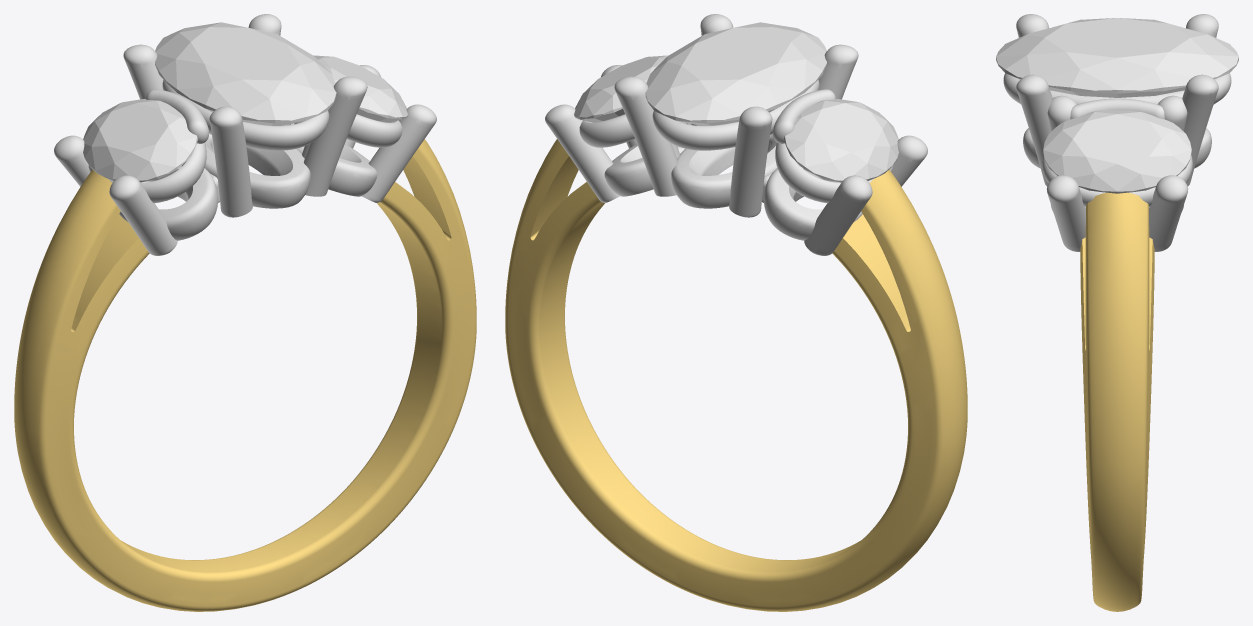
Rendered from JenniePThead_blender.glb.
3 renders of one model, left to right at view 1: azimuth 30°, elevation 25°; view 2: azimuth 150°, elevation 25°; view 3: azimuth 270°, elevation 25°, orthographic.
Parts seen in each view (by area): view 1: Jennie YG band for 3d model, Jennie PT head for 3d model, Jennie dia for 3d model.002, Jennie dia for 3d model.001, Jennie dia for 3d model; view 2: Jennie YG band for 3d model, Jennie PT head for 3d model, Jennie dia for 3d model.002, Jennie dia for 3d model.001, Jennie dia for 3d model; view 3: Jennie YG band for 3d model, Jennie dia for 3d model.002, Jennie PT head for 3d model, Jennie dia for 3d model.
Part boxes in pixels (x1=…): Jennie YG band for 3d model: x1=14, y1=139, x2=476, y2=611; Jennie PT head for 3d model: x1=54, y1=14, x2=436, y2=255; Jennie dia for 3d model.002: x1=155, y1=22, x2=336, y2=125; Jennie dia for 3d model.001: x1=83, y1=99, x2=197, y2=182; Jennie dia for 3d model: x1=313, y1=55, x2=407, y2=122; Jennie YG band for 3d model: x1=505, y1=139, x2=967, y2=611; Jennie PT head for 3d model: x1=545, y1=14, x2=927, y2=255; Jennie dia for 3d model.002: x1=645, y1=22, x2=826, y2=125; Jennie dia for 3d model.001: x1=784, y1=99, x2=898, y2=182; Jennie dia for 3d model: x1=574, y1=55, x2=668, y2=122; Jennie YG band for 3d model: x1=1080, y1=192, x2=1154, y2=611; Jennie dia for 3d model.002: x1=996, y1=18, x2=1238, y2=97; Jennie PT head for 3d model: x1=1003, y1=14, x2=1231, y2=251; Jennie dia for 3d model: x1=1043, y1=110, x2=1191, y2=193.
Bounding box in the file's own units: 20.1 × 23.48 × 9.4.
